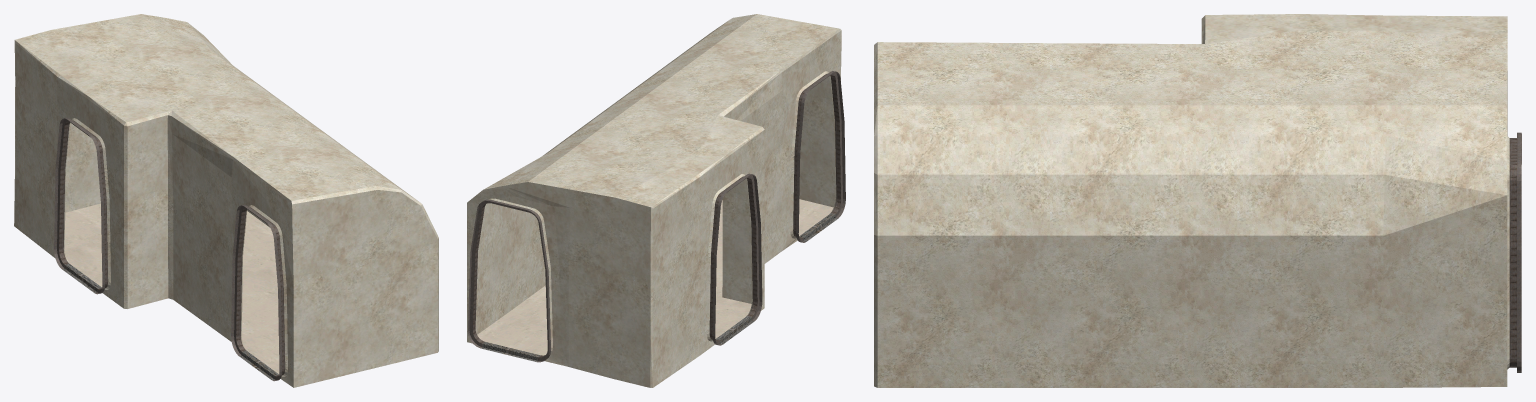
The model's file is thm_tato_house_sml_s01_fp1_r6_hall3_mesh_r6.fbx.
3 views of the same model, side by side, from view 1: azimuth 30°, elevation 25°; view 2: azimuth 150°, elevation 25°; view 3: azimuth 270°, elevation 25° (orthographic). The views are drawn at different scales.
Visible parts, largest first — view 1: mesh_node; view 2: mesh_node; view 3: mesh_node.
Boxes of the visible parts, left/top/right/bottom form: mesh_node: left=14, top=14, right=438, bottom=387; mesh_node: left=467, top=14, right=845, bottom=387; mesh_node: left=874, top=14, right=1521, bottom=387.
Size of the model in its own units: 4.39 by 3.88 by 9.09.
